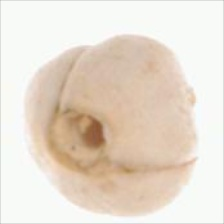L3: (44, 107, 115, 176)
L4: (24, 35, 200, 217)
